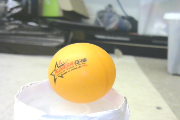PingPongBall: (50, 43, 116, 102)
